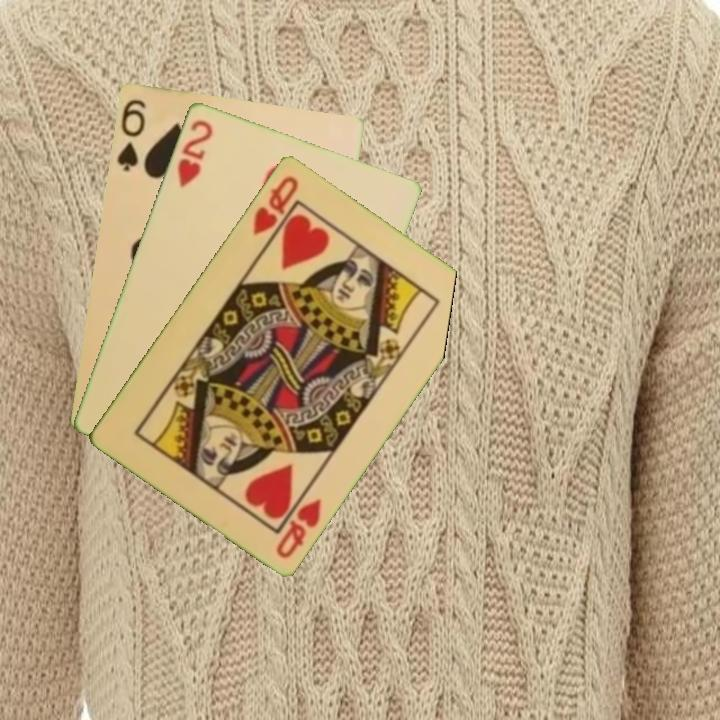2h: (173, 116, 216, 190)
6s: (113, 95, 148, 174)
Qh: (272, 493, 325, 561), (249, 171, 302, 238)
